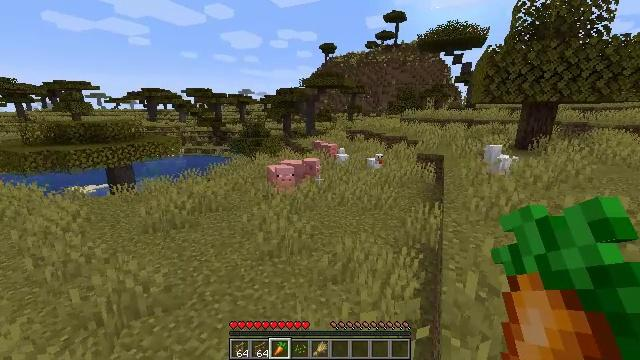chicken: (476, 145, 515, 174), (363, 153, 386, 170), (335, 148, 348, 167)
pig: (282, 158, 322, 183), (271, 165, 293, 189)
